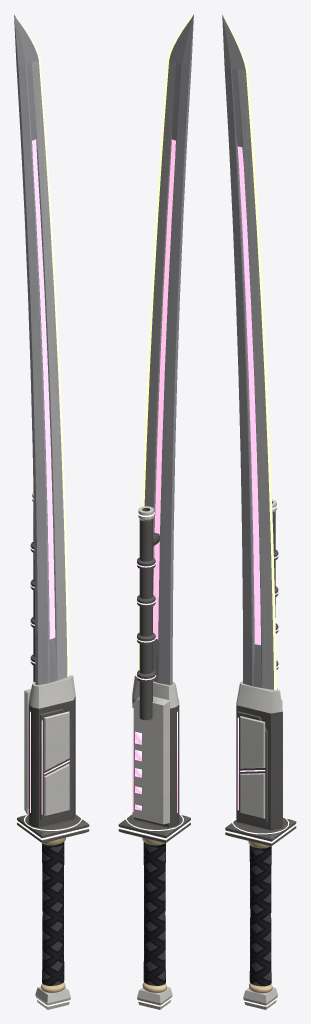
3 renders of one model, left to right at view 1: azimuth 30°, elevation 25°; view 2: azimuth 150°, elevation 25°; view 3: azimuth 330°, elevation 25°, orthographic.
Parts seen in each view (by area): view 1: kat_shin_dawn, kat_blade_dawn, kat_plate_dawn, kat_dark_dawn, glow_kat_line_dawn, kat_wrap, glow_kat_edge_dawn, glow_kat_rim_dawn, kat_pale_dawn; view 2: kat_shin_dawn, kat_plate_dawn, kat_dark_dawn, kat_blade_dawn, glow_kat_line_dawn, kat_wrap, glow_kat_edge_dawn, glow_kat_rim_dawn, kat_pale_dawn; view 3: kat_shin_dawn, kat_blade_dawn, kat_dark_dawn, kat_plate_dawn, glow_kat_line_dawn, kat_wrap, glow_kat_edge_dawn, glow_kat_rim_dawn, kat_pale_dawn.
Part boxes in pixels (bbox=[...]): kat_shin_dawn: bbox=[14, 14, 57, 685]; kat_blade_dawn: bbox=[26, 60, 67, 682]; kat_plate_dawn: bbox=[24, 492, 75, 1009]; kat_dark_dawn: bbox=[17, 503, 89, 842]; glow_kat_line_dawn: bbox=[30, 139, 69, 814]; kat_wrap: bbox=[42, 842, 64, 985]; glow_kat_edge_dawn: bbox=[15, 15, 69, 676]; glow_kat_rim_dawn: bbox=[16, 496, 89, 1006]; kat_pale_dawn: bbox=[41, 837, 65, 992]; kat_shin_dawn: bbox=[153, 14, 193, 685]; kat_plate_dawn: bbox=[132, 506, 179, 1009]; kat_dark_dawn: bbox=[118, 508, 190, 842]; kat_blade_dawn: bbox=[144, 60, 181, 682]; glow_kat_line_dawn: bbox=[132, 139, 177, 812]; kat_wrap: bbox=[143, 842, 165, 985]; glow_kat_edge_dawn: bbox=[138, 15, 192, 670]; glow_kat_rim_dawn: bbox=[118, 512, 191, 1006]; kat_pale_dawn: bbox=[142, 837, 166, 992]; kat_shin_dawn: bbox=[222, 15, 261, 687]; kat_blade_dawn: bbox=[231, 68, 273, 689]; kat_dark_dawn: bbox=[225, 501, 296, 846]; kat_plate_dawn: bbox=[236, 499, 282, 1009]; glow_kat_line_dawn: bbox=[237, 146, 278, 810]; kat_wrap: bbox=[249, 845, 271, 986]; glow_kat_edge_dawn: bbox=[223, 16, 276, 690]; glow_kat_rim_dawn: bbox=[224, 505, 296, 1006]; kat_pale_dawn: bbox=[248, 841, 272, 993].
Size of the model in its own units: 0.1182 by 1.73 by 0.0927.
Materials: 9 (6 with a texture image).
